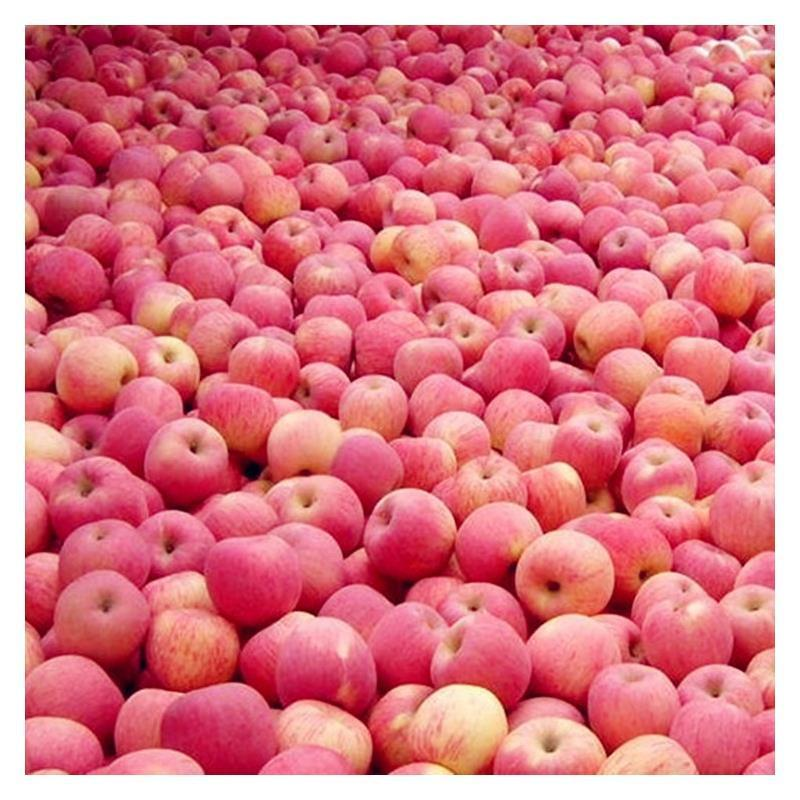apple: (162, 681, 276, 771), (49, 571, 148, 668), (204, 535, 306, 625), (430, 608, 532, 698), (514, 528, 616, 618), (274, 615, 376, 705), (409, 682, 511, 768), (584, 660, 686, 746), (634, 595, 736, 681), (141, 416, 236, 508), (361, 488, 459, 575), (525, 611, 622, 696), (45, 459, 141, 542), (144, 606, 240, 689), (28, 656, 124, 739), (456, 495, 544, 582), (279, 697, 375, 771), (663, 697, 756, 772), (272, 475, 359, 552), (495, 715, 600, 773), (57, 334, 134, 413), (373, 603, 448, 682), (601, 517, 675, 595), (267, 409, 348, 477), (197, 384, 278, 452), (548, 411, 622, 485), (136, 512, 215, 576), (709, 478, 777, 549), (63, 521, 148, 577), (340, 374, 410, 439), (229, 335, 299, 400), (480, 339, 550, 404), (666, 337, 736, 402), (625, 441, 698, 502), (452, 455, 530, 511), (135, 336, 201, 401), (35, 246, 105, 307), (717, 583, 771, 657), (498, 305, 568, 361), (572, 299, 642, 355), (395, 336, 462, 386), (171, 251, 234, 302), (483, 245, 545, 295), (295, 317, 355, 362), (356, 275, 416, 320), (294, 255, 354, 300)
